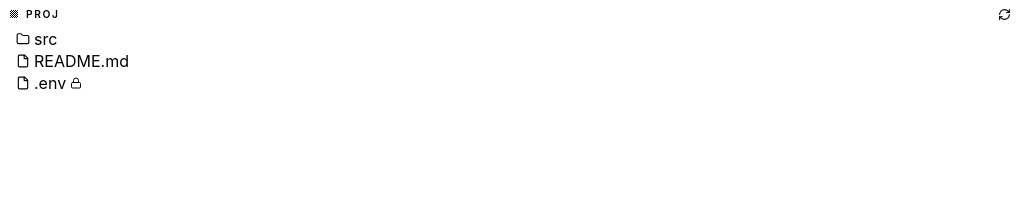
Test: FilesPane look (W52-m) › a right click opens the row's actions; an empty folder shows a quiet label
This screenshot has width=1024, height=210.
Right-click the button "README.md" at (82, 61), box [16,50,1000,72]
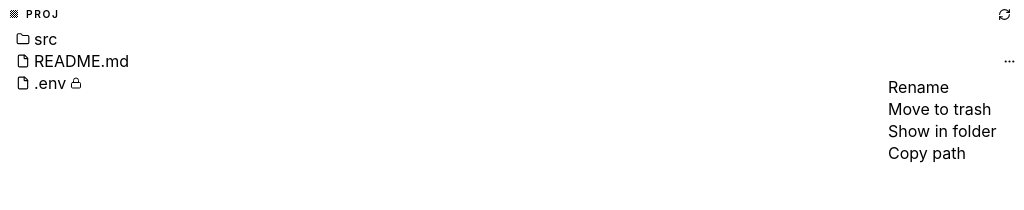
Expected: the button "Copy path" is shown, [880,142,1012,164]
Click the button "src" at (23, 39), box [16,28,1000,50]
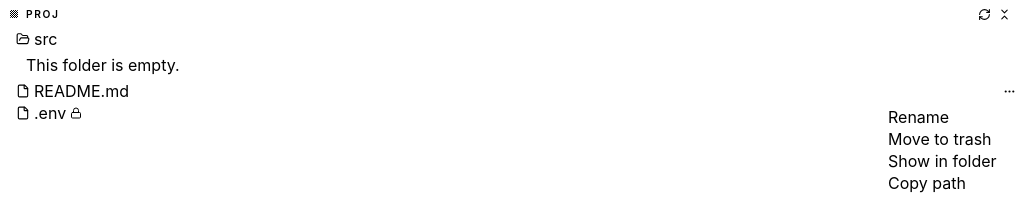
Expected: the list item "This folder is empty." is shown, [26,55,180,75]
